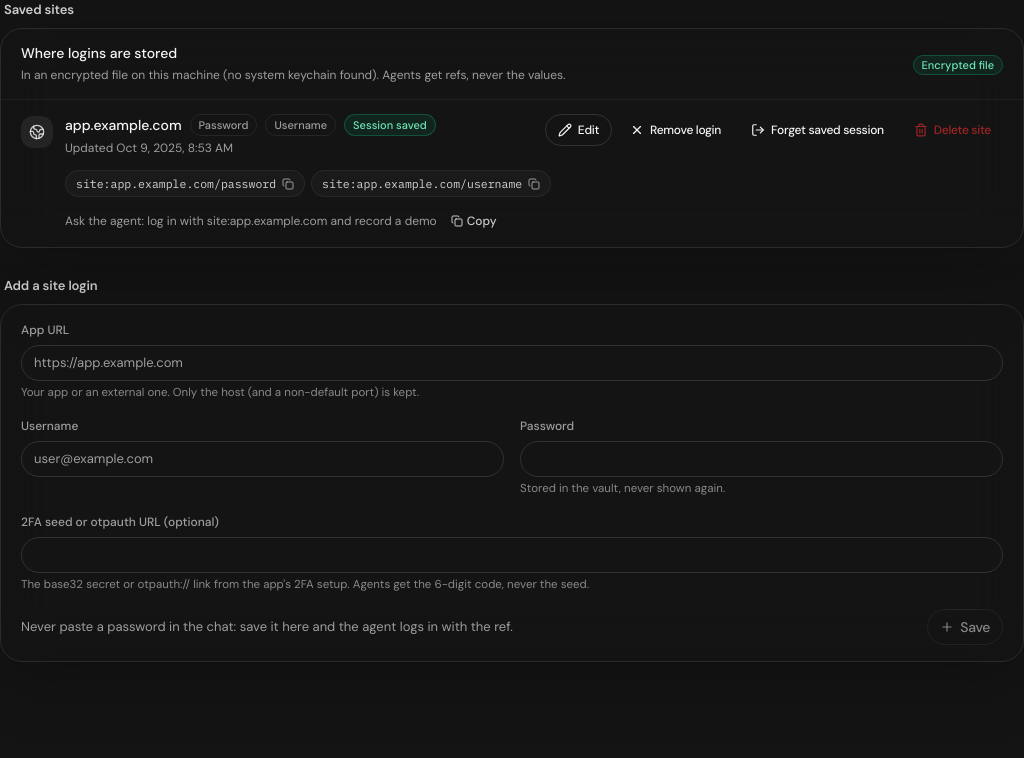
Scenario: SitesSettings › saves a login, normalizes the URL and clears the password from the DOM
The width and height of the screenshot is (1024, 758).
Expected: the text "app.example.com" is shown, [65, 115, 182, 135]
Type "http://localhost:5173/login" into the field with test id "site-url".
click(512, 363); type("http://localhost:5173/login")  # box [21, 345, 1003, 381]
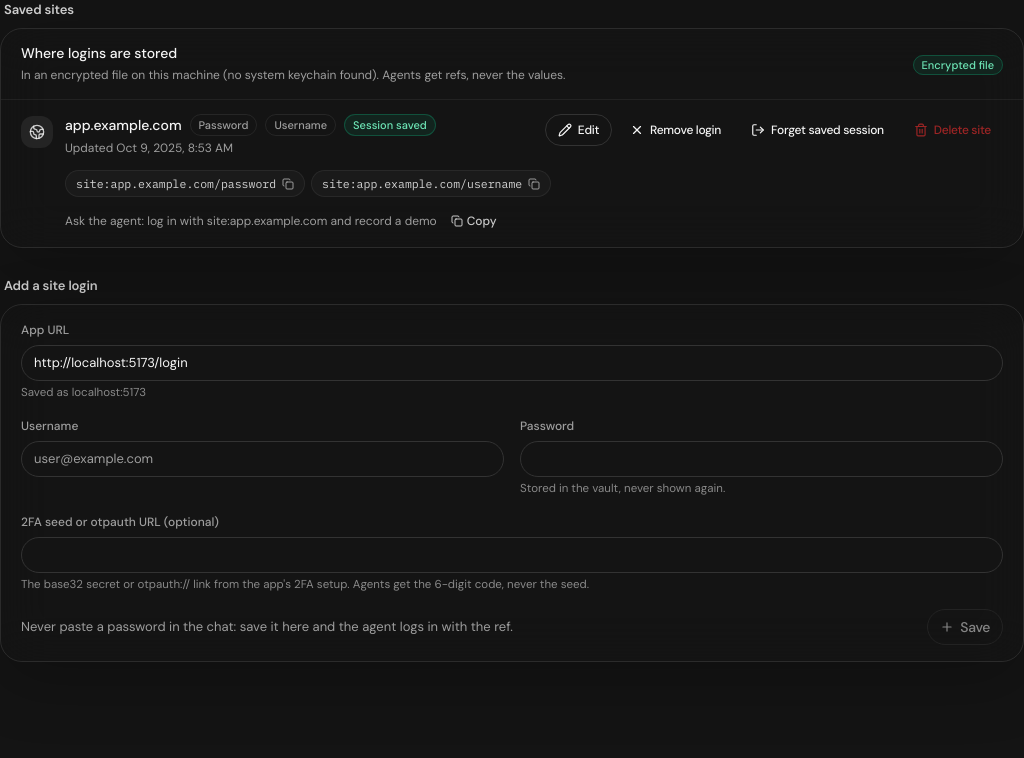
Result: the text "Saved as localhost:5173" is shown at [21, 385, 146, 400]
Type "demo@example.com" into the field with test id "site-username".
click(262, 459); type("demo@example.com")  # box [21, 441, 504, 477]
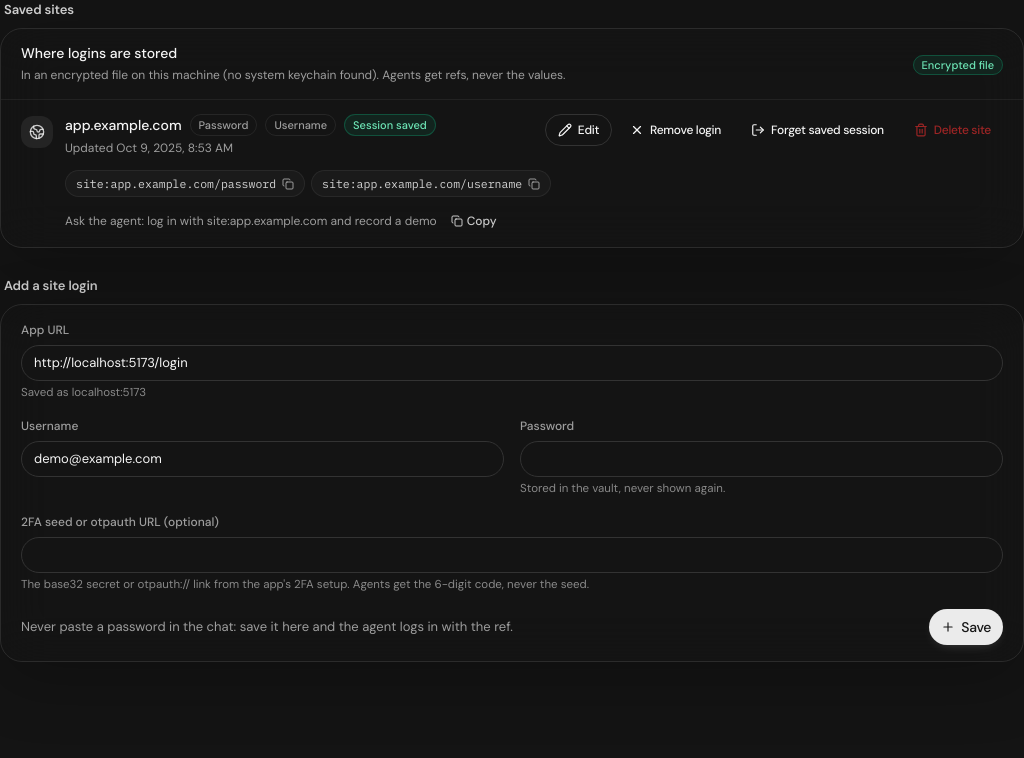
Type "Pa55-word-Never-Shown" into the password field with test id "site-password".
click(762, 459); type("Pa55-word-Never-Shown")  # box [520, 441, 1003, 477]
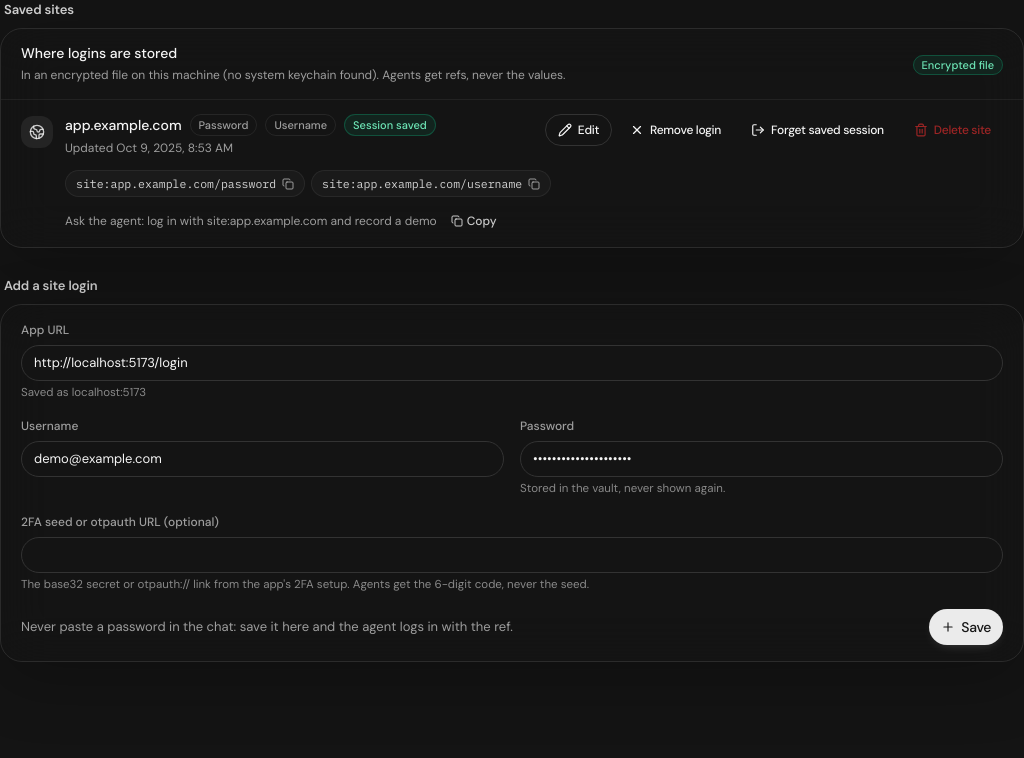
Click the button with test id "site-save".
click(966, 627)  # box [929, 609, 1003, 645]
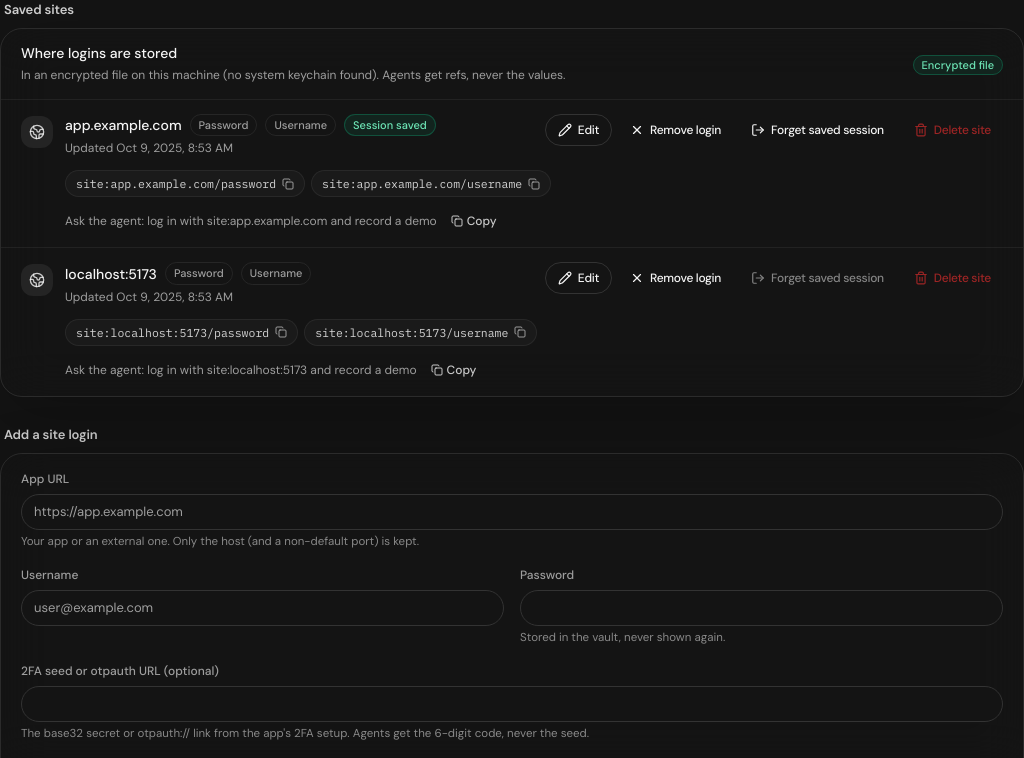
Result: the text "localhost:5173" is shown at [65, 264, 157, 284]
Result: the password field with test id "site-password" is empty at [520, 590, 1003, 626]
Result: the 1st field does not hold "Pa55-word-Never-Shown" at [21, 494, 1003, 530]
